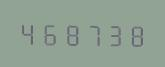eight: (123, 20, 143, 48), (60, 19, 80, 46)
four: (17, 18, 37, 46)
seven: (81, 19, 101, 47)
six: (38, 19, 58, 46)
three: (102, 20, 122, 47)
